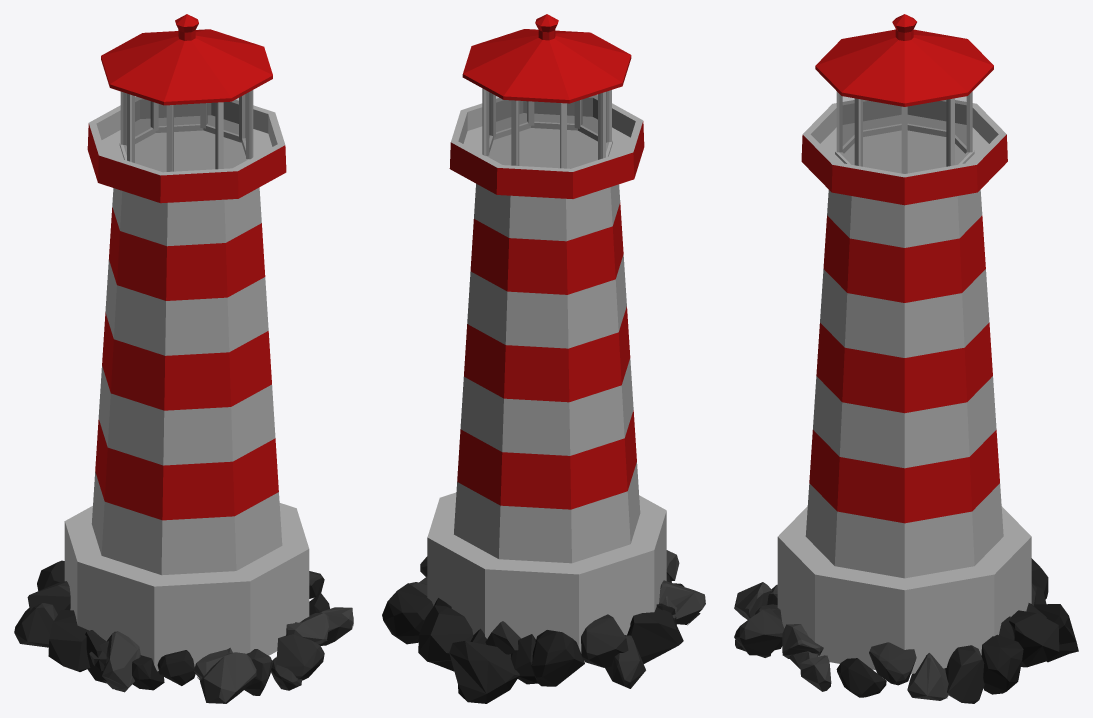
Rendered from Phare.FBX.
3 views of the same model, side by side, from view 1: azimuth 30°, elevation 25°; view 2: azimuth 150°, elevation 25°; view 3: azimuth 270°, elevation 25° (orthographic). The views are drawn at different scales.
Visible parts, largest first — view 1: lighthouse, stone_03; view 2: lighthouse, stone_03; view 3: lighthouse, stone_03.
Part boxes in pixels (x1,y1,x2,y2): lighthouse: [64, 14, 309, 671]; stone_03: [14, 560, 353, 703]; lighthouse: [427, 14, 666, 653]; stone_03: [382, 550, 705, 703]; lighthouse: [777, 14, 1031, 673]; stone_03: [734, 558, 1078, 703].
Size of the model in its own units: 15.49 by 35.81 by 17.22.
